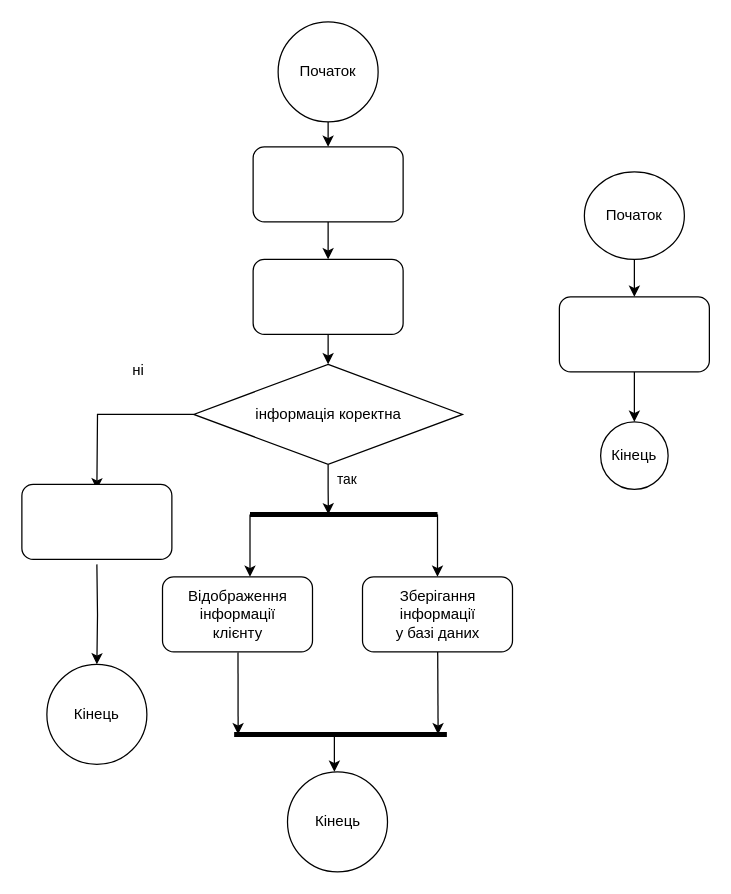
Image size: 731x894. Some labels were removed from this diagram. The centre of each missing label's shape, as x and y in pixels:
Видалення даних з бд, за запитом: (x=633, y=334)
Обробка телеметрії: (x=327, y=296)
Прийом телеметрії: (x=327, y=184)
Сповіщення про помилку для користувача: (x=96, y=521)
